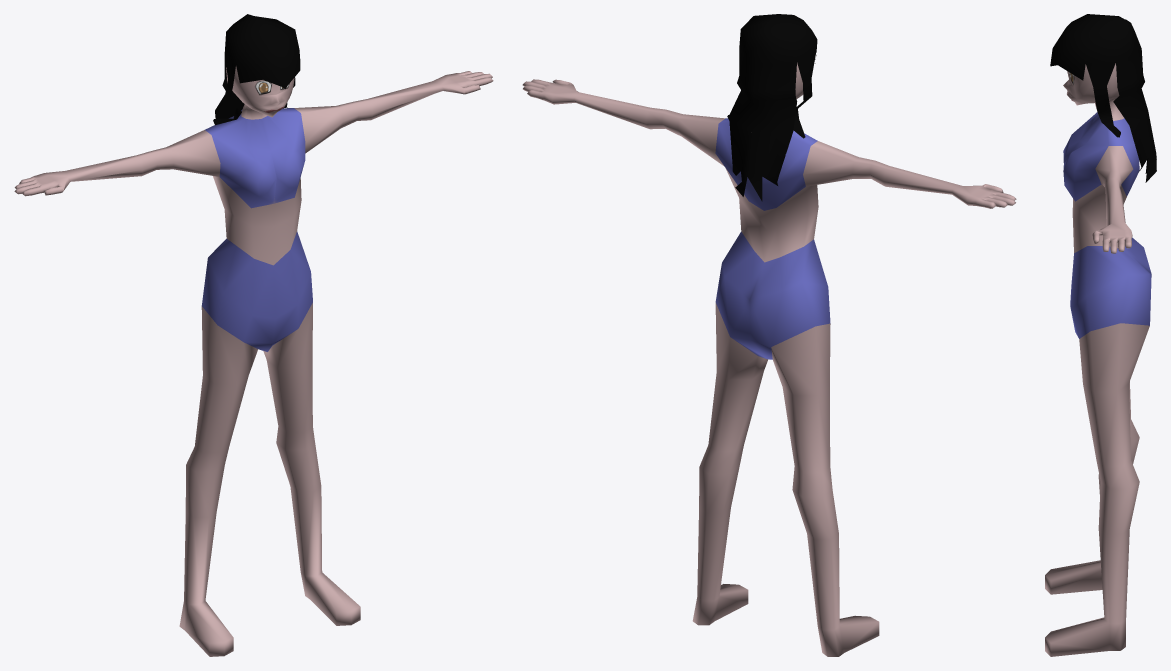
The model's file is PERSONAGEM.fbx.
3 renders of one model, left to right at view 1: azimuth 30°, elevation 25°; view 2: azimuth 150°, elevation 25°; view 3: azimuth 270°, elevation 25°, orthographic. The views are drawn at different scales.
Parts seen in each view (by area): view 1: cabelo; view 2: cabelo; view 3: cabelo.
Part boxes in pixels (x1=…): cabelo: x1=14, y1=14, x2=493, y2=656; cabelo: x1=522, y1=14, x2=1016, y2=656; cabelo: x1=1045, y1=14, x2=1156, y2=656.
Size of the model in its own units: 643 by 774 by 130.
1 material, 1 textured.
